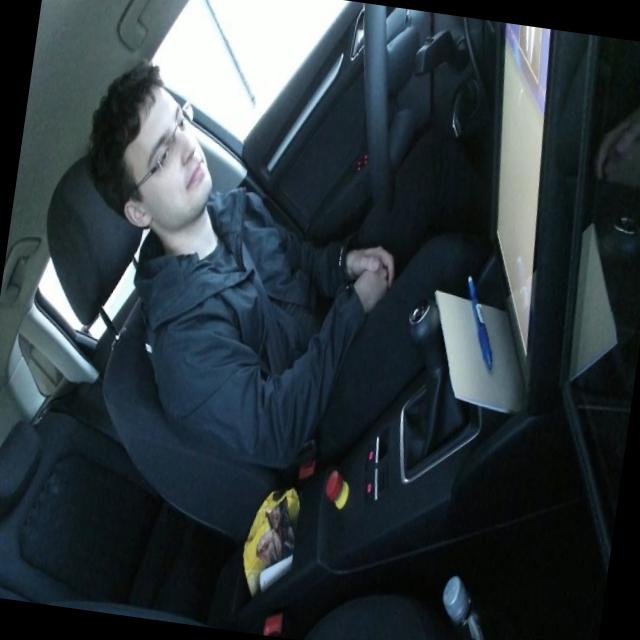pen: (455, 272, 505, 372)
